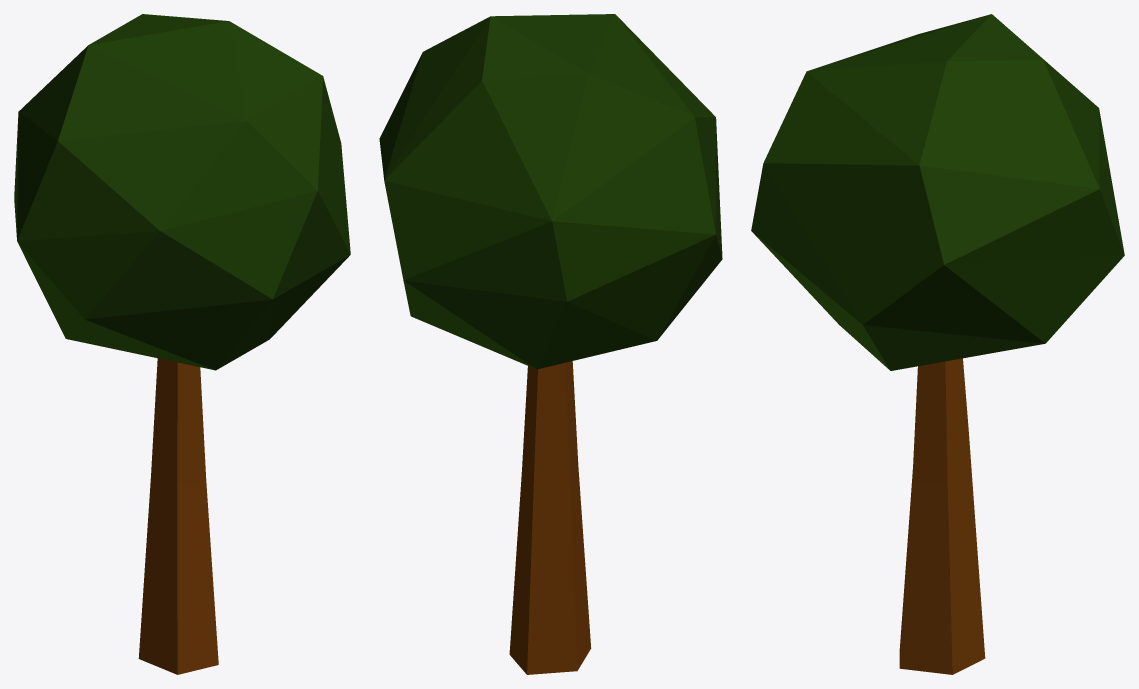
File: tree2_medium_Dean.fbx
3 renders of one model, left to right at view 1: azimuth 30°, elevation 25°; view 2: azimuth 150°, elevation 25°; view 3: azimuth 270°, elevation 25°, orthographic. The views are drawn at different scales.
Visible parts, largest first — view 1: Icosphere, Cylinder; view 2: Icosphere, Cylinder; view 3: Icosphere, Cylinder.
Boxes of the visible parts, x1,y1,x2,y2 form: Icosphere: [14, 14, 350, 370]; Cylinder: [138, 358, 218, 674]; Icosphere: [379, 14, 722, 369]; Cylinder: [509, 361, 591, 674]; Icosphere: [751, 14, 1124, 370]; Cylinder: [899, 358, 985, 674].
Size of the model in its own units: 251 by 453 by 246.
